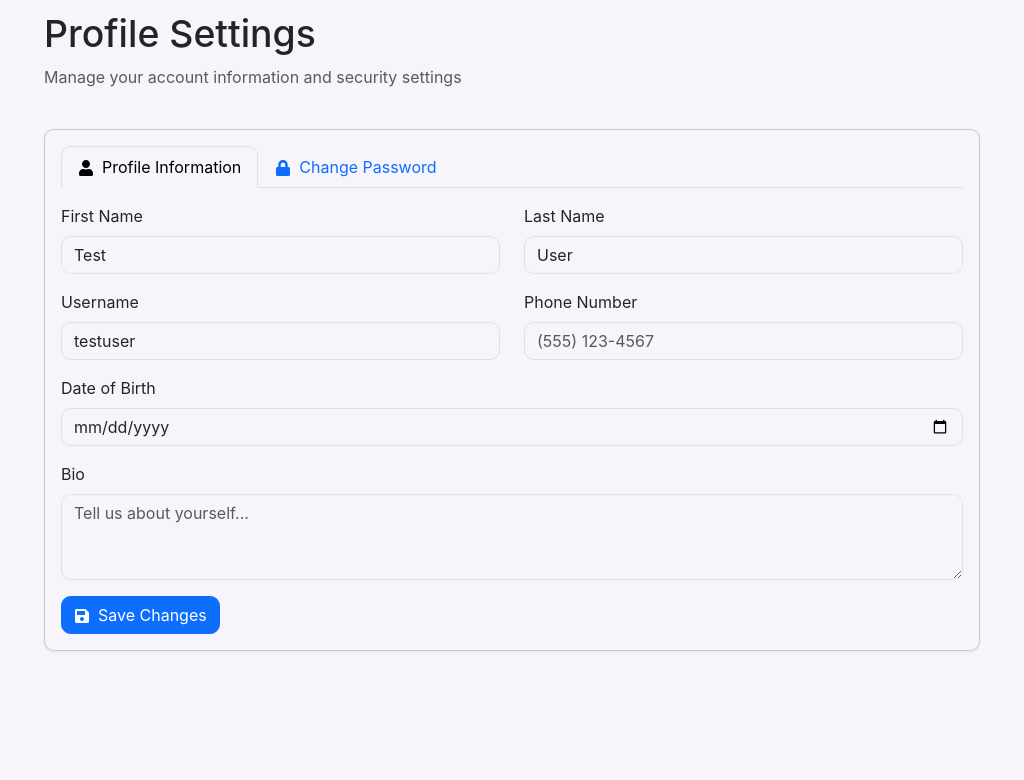
it: Profile › shows a success message and updates the auth context on success
Click the button "Save Changes": (140, 615) left=61, top=596, right=220, bottom=634
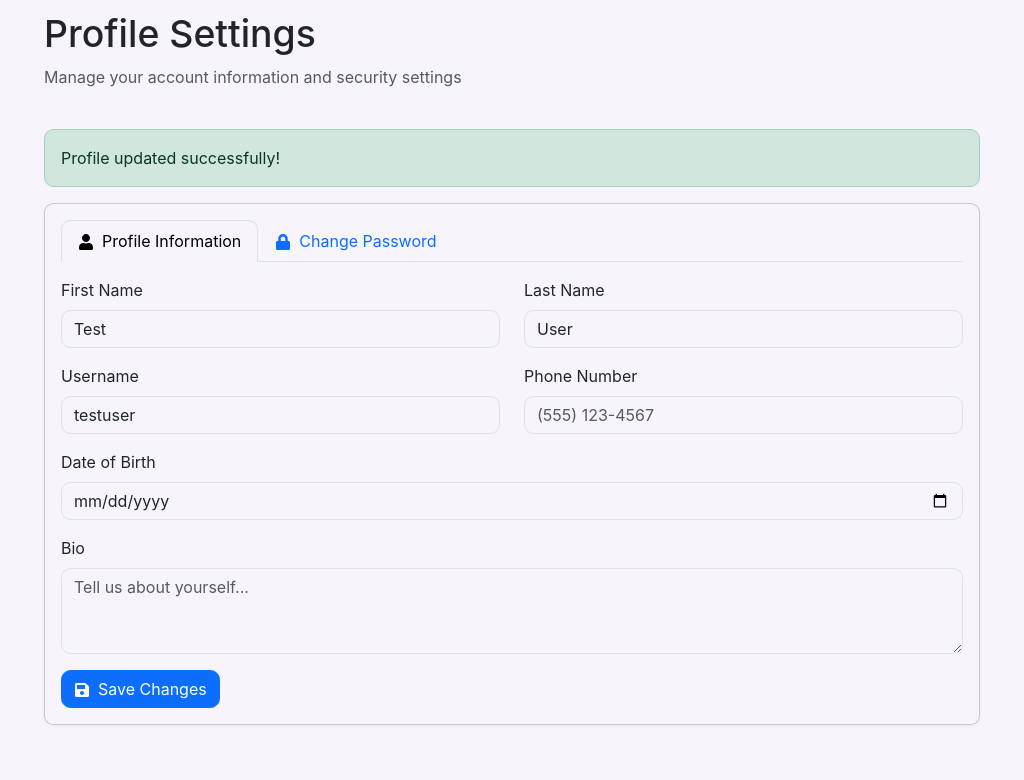
Check: the text "Profile updated successfully!" is shown, box left=44, top=129, right=980, bottom=187
